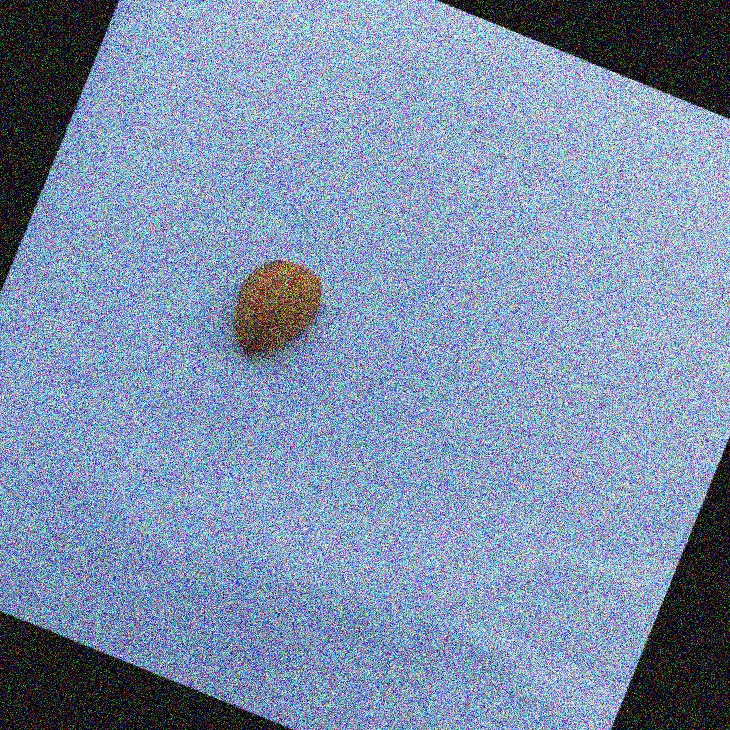grade2: (214, 243, 340, 379)
